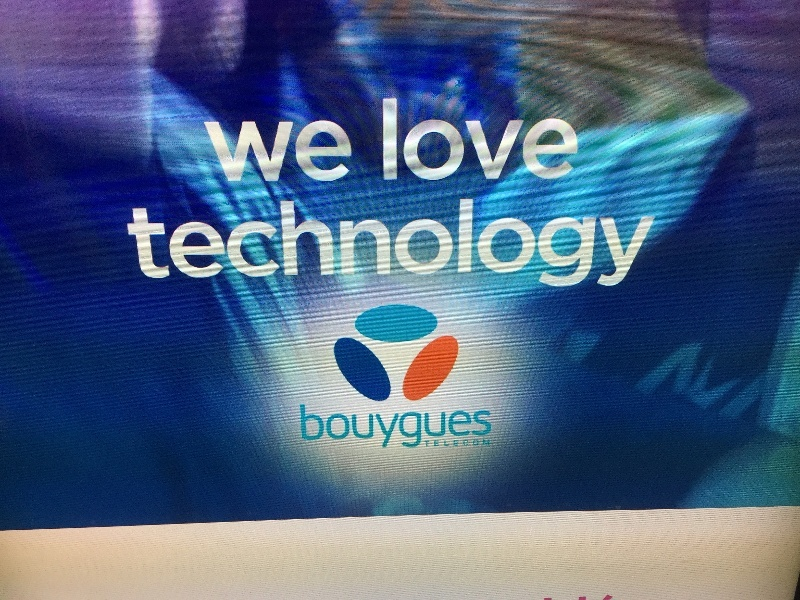text: (129, 196, 144, 288), (145, 196, 160, 288), (161, 196, 176, 288), (177, 196, 192, 288), (193, 196, 208, 288), (209, 196, 224, 288), (225, 196, 240, 288), (241, 196, 256, 288), (257, 196, 272, 288), (273, 196, 288, 288), (289, 196, 304, 288), (305, 196, 320, 288), (321, 196, 336, 288), (337, 196, 352, 288), (353, 196, 368, 288), (369, 196, 384, 288), (385, 196, 400, 288), (401, 196, 416, 288), (417, 196, 432, 288), (433, 196, 448, 288), (449, 196, 464, 288), (465, 196, 480, 288), (481, 196, 496, 288), (497, 196, 512, 288), (513, 196, 528, 288), (529, 196, 544, 288), (545, 196, 560, 288), (561, 196, 576, 288), (577, 196, 592, 288), (593, 196, 608, 288), (609, 196, 624, 288), (625, 196, 640, 288), (641, 196, 656, 288), (385, 97, 400, 181), (401, 97, 416, 181), (417, 97, 432, 181), (433, 97, 448, 181), (449, 97, 464, 181), (465, 97, 480, 181), (481, 97, 496, 181), (497, 97, 512, 181), (513, 97, 528, 181), (529, 97, 544, 181), (545, 97, 560, 181), (561, 97, 576, 181), (337, 120, 353, 182), (209, 120, 224, 182), (225, 120, 240, 182), (241, 120, 256, 182), (257, 120, 272, 182), (273, 120, 288, 182), (289, 120, 304, 182), (305, 120, 320, 182), (321, 120, 336, 182), (305, 404, 320, 452), (321, 404, 336, 452), (337, 404, 352, 452), (353, 404, 368, 452), (369, 404, 384, 452), (385, 404, 400, 452), (401, 404, 416, 452), (417, 404, 432, 452), (433, 404, 448, 452), (449, 404, 464, 452), (465, 404, 480, 452), (481, 404, 492, 452), (204, 120, 208, 182), (300, 404, 304, 452), (126, 196, 128, 288), (433, 439, 448, 447), (449, 439, 464, 447), (465, 439, 480, 447), (383, 97, 384, 181), (577, 97, 578, 181), (481, 439, 491, 447), (424, 439, 432, 447)
